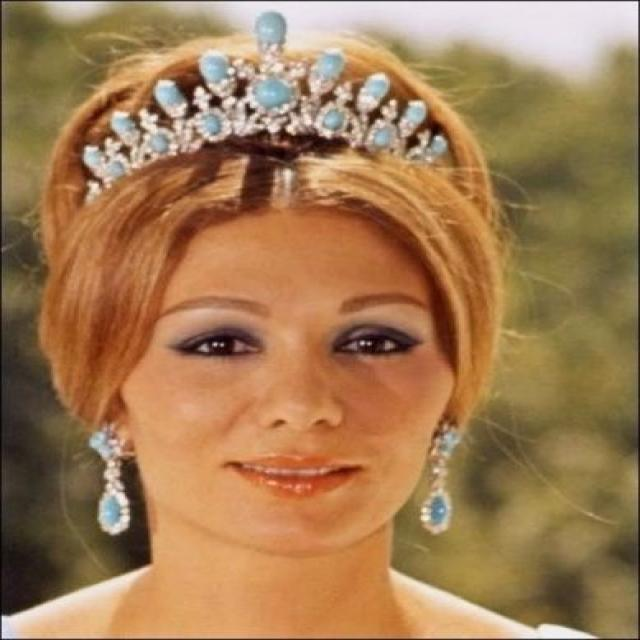Earring: (85, 400, 139, 548), (422, 411, 480, 538)
